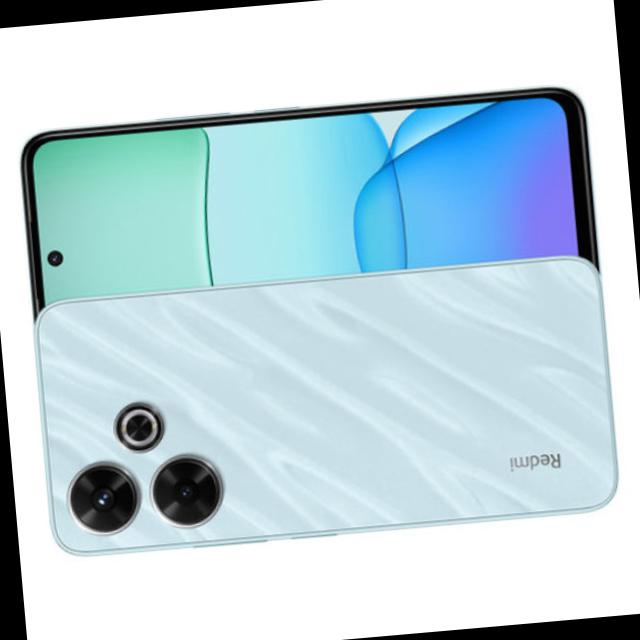mobile_phone: (29, 256, 626, 570), (5, 65, 617, 312)
